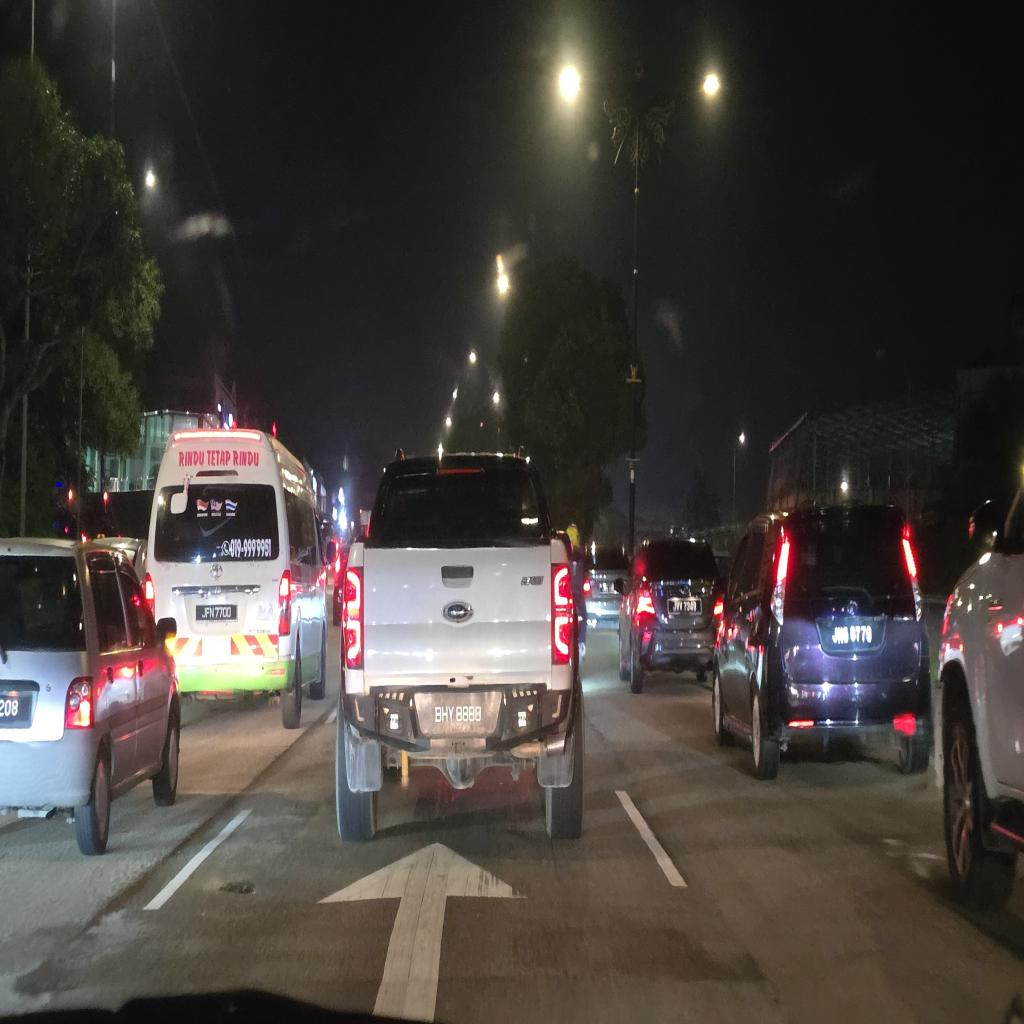car: (336, 454, 583, 839), (713, 506, 932, 778), (144, 430, 327, 728)
car plate: (415, 691, 501, 736), (817, 616, 886, 653), (196, 604, 238, 622)
